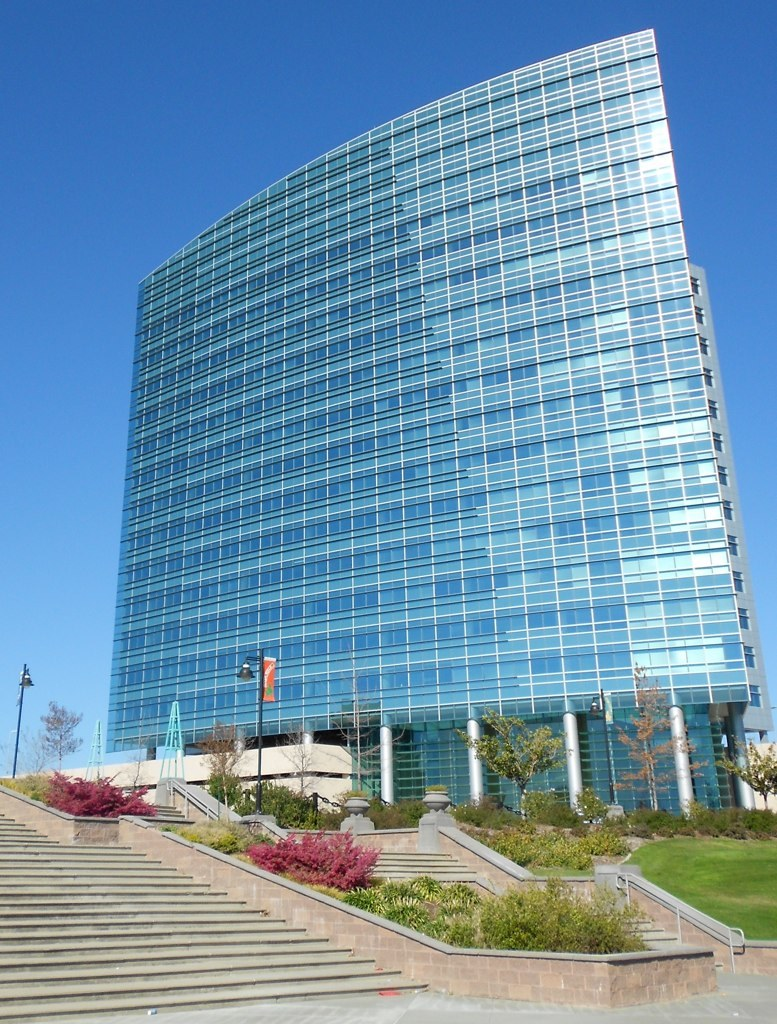Tree: (605, 664, 710, 812), (454, 705, 576, 816), (193, 720, 254, 819), (276, 716, 336, 800), (715, 732, 777, 809), (39, 697, 87, 773)
